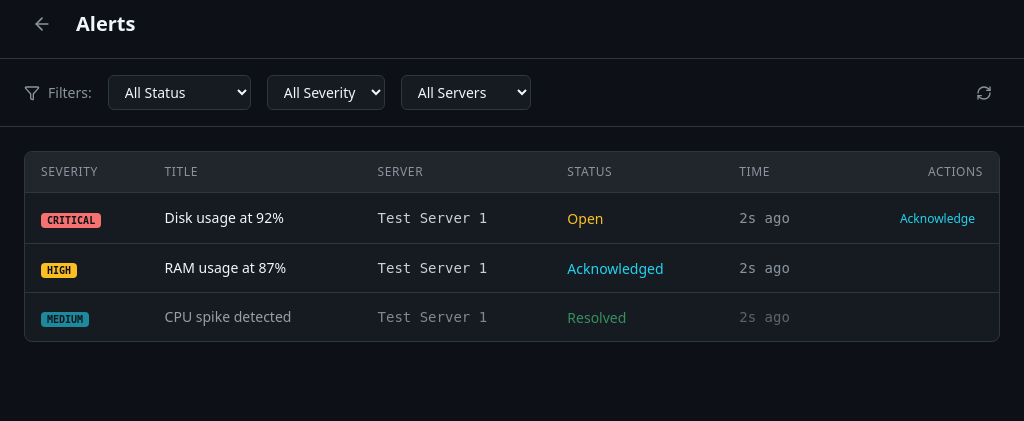
AlertsPage › Acknowledge from list (AC5) › shows error toast on acknowledge failure
Step 1. Click the button with test id "acknowledge-button-1" → click(937, 219), box [892, 207, 983, 231]
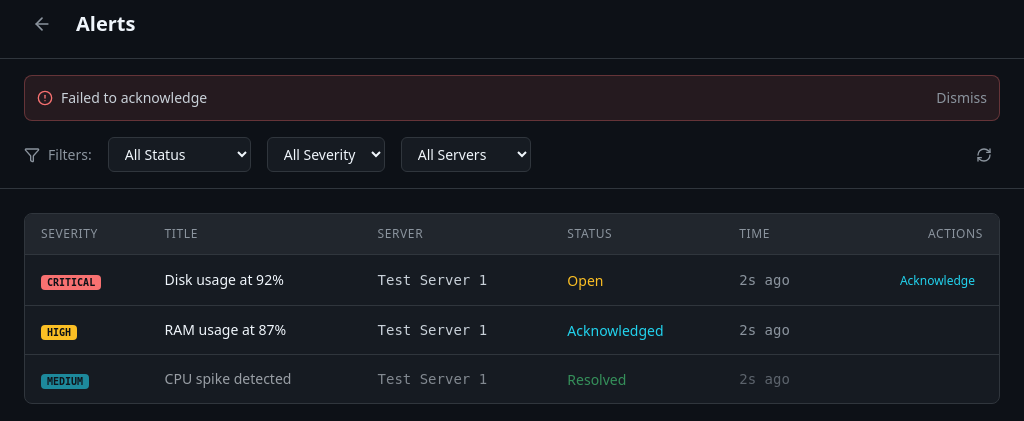
Expected: the element with test id "action-error-toast" is shown, [24, 75, 1000, 121]
